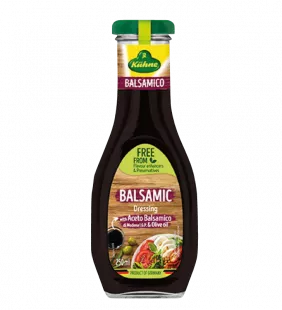KÜHNE: (83, 11, 205, 309)
